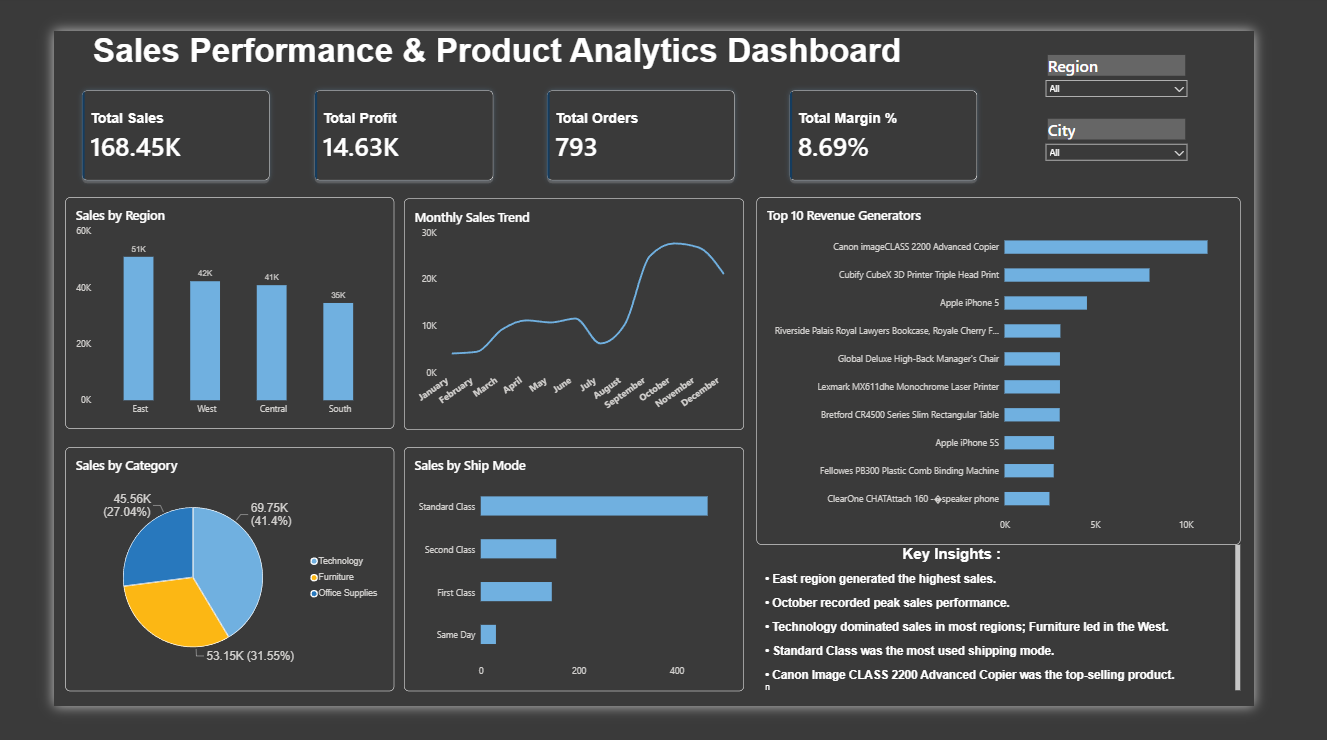

What the dashboard file says about the page in this screenshot:
{"tool":"powerbi","page":{"name":"Dashboard","canvas":[1920,1080],"ordinal":6},"visuals":[{"type":"textbox","box":[18,0,1520,110],"z":0},{"type":"barChart","title":"Sales by Ship Mode","fields":{"Category":["Sample - Superstore.Ship Mode"],"Y":["CountNonNull(Sample - Superstore.Product ID)"]},"box":[560,666,544,390],"z":1000},{"type":"clusteredColumnChart","title":"Sales by Region","fields":{"Category":["Sample - Superstore.Region"],"Y":["Sum(Sample - Superstore.Sales)"]},"box":[18,266,526,370],"z":2000},{"type":"pieChart","title":"Sales by Category","fields":{"Category":["Sample - Superstore.Category"],"Y":["Sum(Sample - Superstore.Sales)"]},"box":[18,666,526,390],"z":3000},{"type":"slicer","fields":{"Values":["Sample - Superstore.City"]},"box":[1582,140,236,82],"z":4000},{"type":"slicer","fields":{"Values":["Sample - Superstore.Region"]},"box":[1582,38,236,72],"z":5000},{"type":"lineChart","title":"Monthly Sales Trend ","fields":{"Category":["Superstore.Order Date.Variation.Date Hierarchy.Month"],"Y":["Sum(Sample - Superstore.Sales)"]},"box":[560,268,544,370],"z":6000},{"type":"clusteredBarChart","title":"Top 10 Revenue Generators","fields":{"Category":["Superstore.Product Name"],"Y":["Sum(Superstore.Sales)"]},"box":[1124,266,774,556],"z":7000},{"type":"cardVisual","fields":{"Data":["Sum(Superstore.Sales)"]},"box":[30,86,322,166],"z":8000},{"type":"cardVisual","fields":{"Data":["Sum(Superstore.Profit)"]},"box":[390,86,308,166],"z":9000},{"type":"cardVisual","fields":{"Data":["CountNonNull(Superstore.Order ID)"]},"box":[758,84,322,166],"z":10000},{"type":"cardVisual","fields":{"Data":["Superstore.Total Margines %"]},"box":[1140,84,322,166],"z":11000},{"type":"textbox","box":[1138,822,760,234],"z":12000}]}

Visuals, with their boxes in screenshot pixels (x1, y1, x2, y2), scaled from the page's 1920x1080 canvas onto the 1327x740 screenshot:
textbox: bbox=[12, 0, 1063, 75]
"Sales by Ship Mode" barChart: bbox=[387, 456, 763, 724]
"Sales by Region" clusteredColumnChart: bbox=[12, 182, 376, 436]
"Sales by Category" pieChart: bbox=[12, 456, 376, 724]
slicer - Sample - Superstore.City: bbox=[1093, 96, 1257, 152]
slicer - Sample - Superstore.Region: bbox=[1093, 26, 1257, 75]
"Monthly Sales Trend " lineChart: bbox=[387, 184, 763, 437]
"Top 10 Revenue Generators" clusteredBarChart: bbox=[777, 182, 1312, 563]
cardVisual - Sum(Superstore.Sales): bbox=[21, 59, 243, 173]
cardVisual - Sum(Superstore.Profit): bbox=[270, 59, 482, 173]
cardVisual - CountNonNull(Superstore.Order ID): bbox=[524, 58, 746, 171]
cardVisual - Superstore.Total Margines %: bbox=[788, 58, 1010, 171]
textbox: bbox=[787, 563, 1312, 724]
